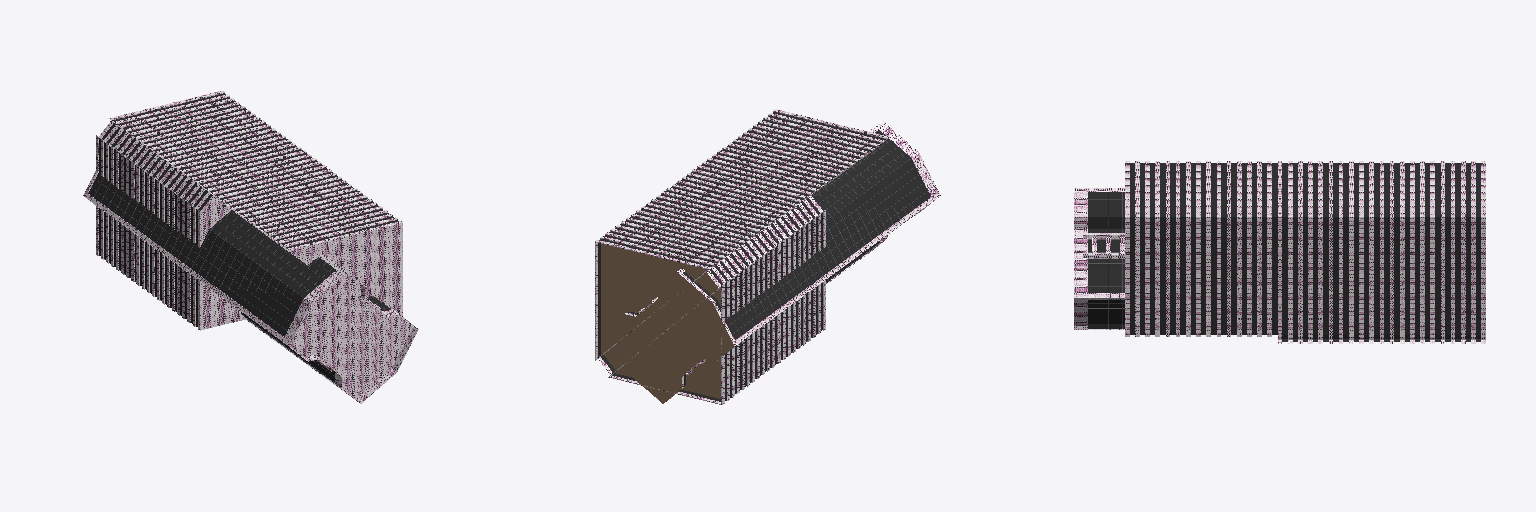
The picture shows the model from 3 angles: view 1: azimuth 30°, elevation 25°; view 2: azimuth 150°, elevation 25°; view 3: azimuth 270°, elevation 25°; orthographic projection.
Visible parts, largest first — view 1: Wall_04, Wall_01, Glass_01, Glass_02, Wall_02, Wall_03, Frame_01; view 2: Wall_01, Slab_01, Glass_01, Glass_02, Wall_04, Wall_02, Frame_01, Wall_03; view 3: Glass_01, Wall_01, Glass_02, Wall_03, Wall_02.
Boxes of the visible parts, x1=… form: Wall_04: x1=88, y1=92, x2=418, y2=403; Wall_01: x1=85, y1=91, x2=402, y2=398; Glass_01: x1=99, y1=93, x2=398, y2=326; Glass_02: x1=88, y1=173, x2=390, y2=381; Wall_02: x1=83, y1=192, x2=379, y2=395; Wall_03: x1=285, y1=269, x2=416, y2=402; Frame_01: x1=91, y1=176, x2=390, y2=382; Wall_01: x1=596, y1=109, x2=933, y2=404; Slab_01: x1=601, y1=244, x2=734, y2=403; Glass_01: x1=598, y1=112, x2=885, y2=401; Glass_02: x1=628, y1=130, x2=930, y2=385; Wall_04: x1=595, y1=111, x2=926, y2=404; Wall_02: x1=639, y1=126, x2=935, y2=401; Frame_01: x1=629, y1=134, x2=927, y2=384; Wall_03: x1=868, y1=121, x2=940, y2=253; Glass_01: x1=1130, y1=163, x2=1480, y2=341; Wall_01: x1=1083, y1=161, x2=1485, y2=343; Glass_02: x1=1088, y1=192, x2=1124, y2=328; Wall_03: x1=1074, y1=188, x2=1082, y2=329; Wall_02: x1=1083, y1=188, x2=1124, y2=329.
Bounding box in the file's own units: 1901 × 1901 × 4855.
4 materials, 1 textured.